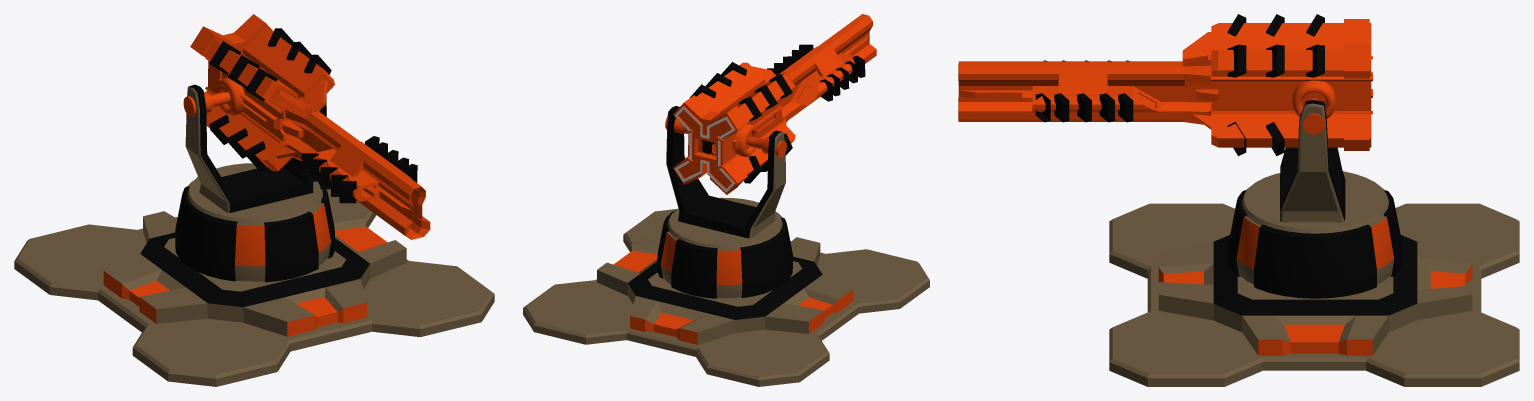
Rendered from RayGun.fbx.
The picture shows the model from 3 angles, left to right: view 1: azimuth 30°, elevation 25°; view 2: azimuth 150°, elevation 25°; view 3: azimuth 270°, elevation 25°; orthographic projection. The views are drawn at different scales.
Visible parts, largest first — view 1: ground_plane_low, main_body_low, ground_plane_low.001; view 2: ground_plane_low, main_body_low, ground_plane_low.001; view 3: ground_plane_low, main_body_low, ground_plane_low.001.
Boxes of the visible parts, box(x1,y1,x2,y2) form: ground_plane_low: box(14, 84, 494, 386); main_body_low: box(190, 14, 430, 239); ground_plane_low.001: box(183, 77, 244, 116); ground_plane_low: box(523, 106, 929, 386); main_body_low: box(673, 14, 876, 194); ground_plane_low.001: box(665, 116, 786, 157); ground_plane_low: box(1109, 100, 1519, 386); main_body_low: box(958, 14, 1372, 156); ground_plane_low.001: box(1292, 80, 1335, 134).
Size of the model in its own units: 551 by 402 by 755.
